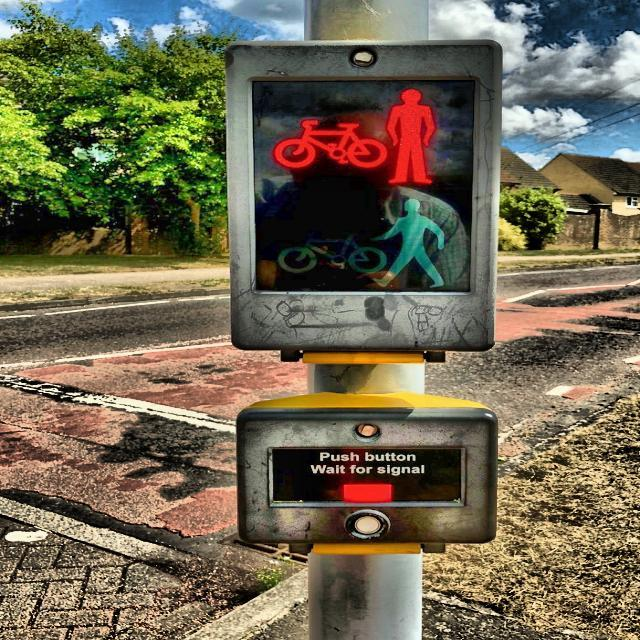red_light: (382, 85, 442, 187)
